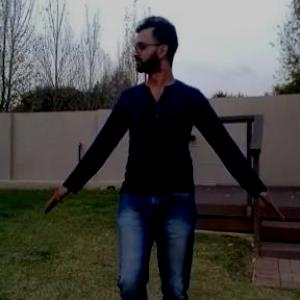land: (47, 19, 299, 299)
